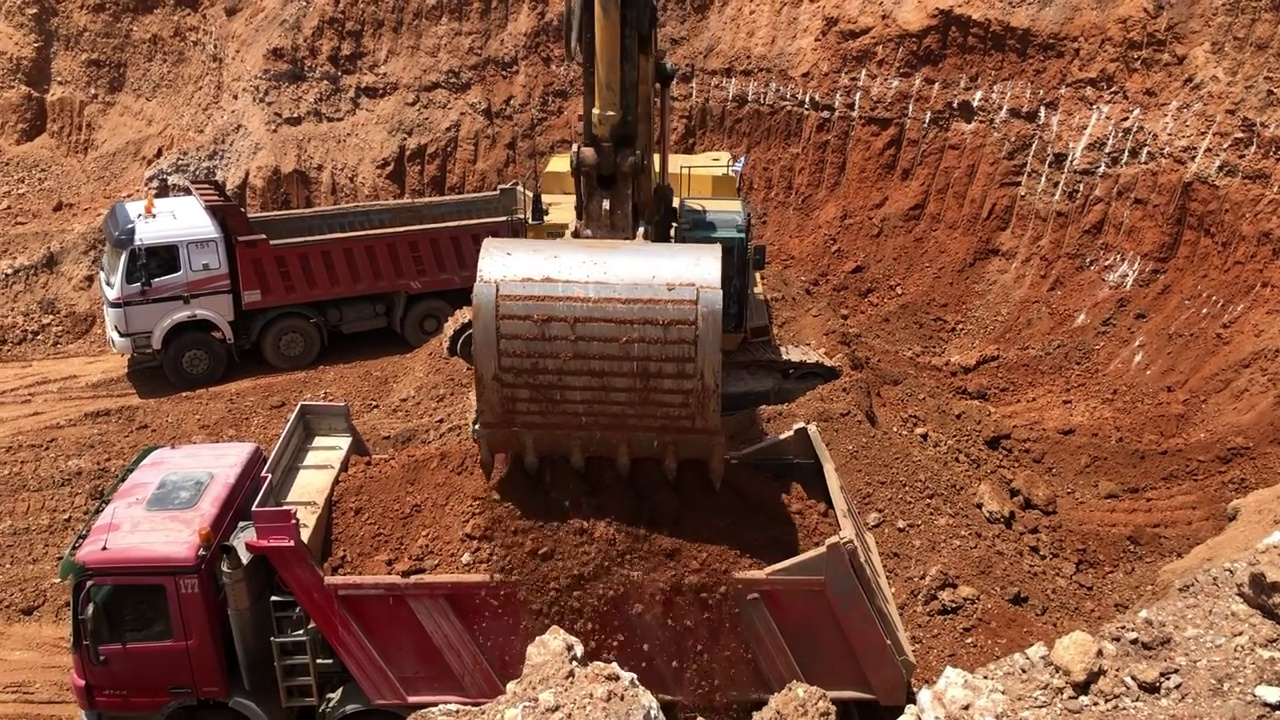excavator: (442, 6, 841, 485)
truck: (61, 403, 920, 710), (98, 185, 544, 377)
